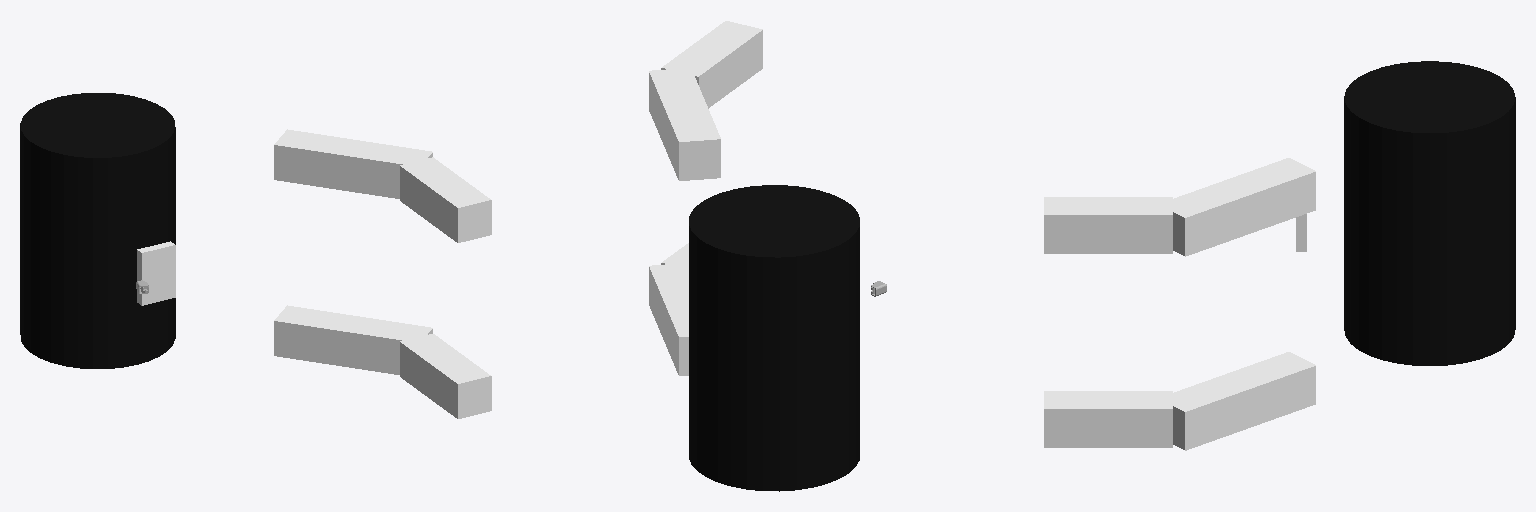
robot.urdf — ex1:
<?xml version="1.0" ?>
<!-- =================================================================================== -->
<!-- |    This document was autogenerated by xacro from two_finger_mimic.urdf.xacro    | -->
<!-- |    EDITING THIS FILE BY HAND IS NOT RECOMMENDED                                 | -->
<!-- =================================================================================== -->
<robot name="ex1" xmlns:xacro="http://ros.org/wiki/xacro">
  <link name="world"/>
  <joint name="virtualFixed" type="fixed">
    <parent link="world"/>
    <child link="motor"/>
  </joint>
  <link name="motor">
    <inertial>
      <mass value="1"/>
      <inertia ixx="100" ixy="0" ixz="0" iyy="100" iyz="0" izz="100"/>
      <origin/>
    </inertial>
    <visual>
      <geometry>
        <cylinder length="0.6" radius=".2"/>
      </geometry>
      <material name="black">
        <color rgba=".1 .1 .1 .1"/>
      </material>
    </visual>
    <collision>
      <origin xyz="0 0 0"/>
      <geometry>
        <cylinder length="0.6" radius=".2"/>
      </geometry>
      <contact_coefficients kd="1.0" kp="1000.0" mu="0"/>
    </collision>
  </link>
  <link name="base">
    <inertial>
      <mass value="1"/>
      <inertia ixx="100" ixy="0" ixz="0" iyy="100" iyz="0" izz="100"/>
      <origin/>
    </inertial>
    <visual>
      <geometry>
        <box size="0.1 .025 .15"/>
      </geometry>
      <origin rpy="0 0 0" xyz="0 -0.15 0"/>
      <material name="white">
        <color rgba="1 1 1 1"/>
      </material>
    </visual>
    <collision>
      <origin rpy="0 0 0" xyz="0 -0.15 0"/>
      <geometry>
        <box size="0.4 .1 .6"/>
      </geometry>
      <contact_coefficients kd="1.0" kp="1000.0" mu="0"/>
    </collision>
  </link>
  <joint name="motor_to_base" type="fixed">
    <parent link="motor"/>
    <child link="base"/>
    <origin xyz="0 -0.15 0"/>
  </joint>
<!--  <link name="left_finger">
    <inertial>
      <mass value="1"/>
      <inertia ixx="100" ixy="0" ixz="0" iyy="100" iyz="0" izz="100"/>
      <origin/>
    </inertial>
    <visual>
      <geometry>
        <box size="0.1 .4 .1"/>
      </geometry>
      <origin rpy="0 0 -0.7" xyz="-0.35 -0.3 0"/>
      <material name="white">
        <color rgba="1 1 1 1"/>
      </material>
    </visual>
    <collision>
      <origin rpy="0 0 -0.7" xyz="-0.4 -0.3 0"/>
      <geometry>
        <box size="0.1 .4 .1"/>
      </geometry>
      <contact_coefficients kd="1.0" kp="1000.0" mu="0"/>
    </collision>
  </link>
  <joint name="base_to_left_finger" type="revolute">
    <axis xyz="0 0 1"/>
    <limit effort="1000.0" lower="0.0" upper="0.7" velocity="0.5"/>
    <parent link="base"/>
    <child link="left_finger"/>
    <origin xyz="-0.1 0 0"/>
  </joint> -->
  
  <!-- ///////////////////////////////////////   Long finger 1   ////////////////////////////////////////// -->
  <!-- ///////////////////////////////////////   Base_Link of the long_finger   ////////////////////////////////////////// -->
    <link name="motor_finger1_virtual_link">
   <inertial> <!-- We need inertial otherwise gazebo does not load the motor joints. I put very low inertia-->
      <origin rpy="0 0 0" xyz="0 0 0"/>
      <mass value="0.01"/>
      <inertia ixx="0.0001" ixy="0.0" ixz="0.0" iyy="0.0001" iyz="0.0" izz="0.0001"/>
    </inertial>
  </link>
    <joint name="motor_finger1" type="revolute">
    <origin rpy="0 0 0" xyz="0 0 0"/>
    <parent link="base"/>
    <child link="motor_finger1_virtual_link"/>
    <limit effort="10" lower="0" upper="2.5" velocity="1"/>
    <dynamics damping="0.003" friction="0.003"/>
  </joint>
  
  
  <link name="LFB1">
    <inertial>
      <origin rpy="0 0 0" xyz="0.000045491656 -0.0037522651 0.0064111226"/>
      <mass value="0.0039598861"/>
      <inertia ixx="4.3061452E-07" ixy="0" ixz="-1.2027573E-07" iyy="3.9605806E-07" iyz="0" izz="3.9738552E-07"/>
    </inertial>
    <visual>
      <origin rpy="0 0 0" xyz="0 0 0"/>
      <geometry>
        <mesh filename="package://iit_heri_ii_hand_description/description/meshes/heri_II/LFB1.STL" />
      </geometry>
      <material name="">
        <color rgba="0.75294 0.75294 0.75294 1"/>
      </material>
    </visual>
    <collision>
      <origin rpy="0 0 0" xyz="0 0 0"/>
      <geometry>
        <mesh filename="package://iit_heri_ii_hand_description/description/meshes/heri_II/LFB1.STL"/>
      </geometry>
    </collision>
  </link>
  <!-- ///////////////////////////////////////   Joint of BASE and the base_link of the short finger   ////////////////////////////////////////// -->
  <joint name="BASE__LFB1" type="revolute">
    <origin rpy="1.57 0 -1.57" xyz="-0.05 -0.15 0"/>
    <parent link="base"/>
    <child link="LFB1"/>
    <axis xyz="0 0 1"/>
    <limit effort="10" lower="-0.1" upper="0.1" velocity="1"/>
    <dynamics damping="0.003" friction="0.003"/>
  </joint>
  <!-- ///////////////////////////////////////   First phalanx of the Long_Finger   ////////////////////////////////////////// -->
  <link name="LFP1_1">
    <inertial>
      <origin rpy="0 0 0" xyz="0.013537693 -0.00011389541 0.00014514898"/>
      <mass value="0.021630428"/>
      <inertia ixx="1.7547572E-06" ixy="1.2425281E-07" ixz="-5.2776703E-08" iyy="7.3422819E-06" iyz="-1.1395559E-09" izz="7.1587820E-06"/>
    </inertial>
    <visual>
      <origin rpy="0 0 0" xyz="0 0 0"/>
      <geometry>
        <mesh filename="package://iit_heri_ii_hand_description/description/meshes/heri_II/LFP1_1.STL"/>
      </geometry>
      <material name="">
        <color rgba="0.75294 0.75294 0.75294 1"/>
      </material>
    </visual>
    <collision>
      <origin rpy="0 0 0" xyz="0 0 0"/>
      <geometry>
        <mesh filename="package://iit_heri_ii_hand_description/description/meshes/heri_II/LFP1_1.STL"/>
      </geometry>
    </collision>
  </link>
  <!-- ///////////////////////////////////////   Joint of base_link and the first phalanx of the short finger   ////////////////////////////////////////// -->
  <joint name="LFB1__LFP1_1" type="revolute">
    <origin rpy="1.5708 -0.29671 0" xyz="0.011 0 0.007"/>
    <parent link="LFB1"/>
    <child link="LFP1_1"/>
    <axis xyz="0 0 -1"/>
    <limit effort="10" lower="-0.1" upper="0.56" velocity="1"/>
    <dynamics damping="0.003" friction="0.003"/>
    <!-- joint of the first phalange -->
    <mimic joint="motor_finger1" nlFunPos="0.08519*2.71828^(-((x-0.9172)/0.1817)^2) + [number redacted]*2.71828^(-((x-32.2)/5.513)^2) + -714900*2.71828^(-((x--17.93)/4.61)^2) + 0.2555*2.71828^(-((x-0.7317)/1.105)^2)"/>
  </joint>
  <gazebo>
    <plugin filename="libroboticsgroup_gazebo_mimic_joint_plugin.so" name="LFB1__LFP1_1_jointmimic_joint_plugin">
      <joint>motor_finger1</joint>
      <mimicJoint>LFB1__LFP1_1</mimicJoint>
      <multiplier>0</multiplier>
      <offset>0</offset>
      <sensitiveness>0.0</sensitiveness>
      <!-- if absolute difference between setpoint and process value is below this threshold, do nothing; 0.0 = disable [rad] -->
      <maxEffort>10.0</maxEffort>
      <nlFunPos>0.08519*2.71828^(-((x-0.9172)/0.1817)^2) + [number redacted]*2.71828^(-((x-32.2)/5.513)^2) + -714900*2.71828^(-((x--17.93)/4.61)^2) + 0.2555*2.71828^(-((x-0.7317)/1.105)^2)</nlFunPos>
    </plugin>
  </gazebo>
  <!-- ///////////////////////////////////////   Second phalanx of the Long_Finger   ////////////////////////////////////////// -->
  <link name="LFP1_2">
    <inertial>
      <origin rpy="0 0 0" xyz="0.012816858 0.00029615072 0.00012767631"/>
      <mass value="0.022869549"/>
      <inertia ixx="1.9943688E-06" ixy="1.3380251E-07" ixz="-5.3468405E-08" iyy="7.4922799E-06" iyz="-9.2812315E-10" izz="7.3102836E-06"/>
    </inertial>
    <visual>
      <origin rpy="0 0 0" xyz="0 0 0"/>
      <geometry>
        <mesh filename="package://iit_heri_ii_hand_description/description/meshes/heri_II/LFP1_2.STL"/>
      </geometry>
      <material name="">
        <color rgba="0.75294 0.75294 0.75294 1"/>
      </material>
    </visual>
    <collision>
      <origin rpy="0 0 0" xyz="0 0 0"/>
      <geometry>
        <mesh filename="package://iit_heri_ii_hand_description/description/meshes/heri_II/LFP1_2.STL"/>
      </geometry>
    </collision>
  </link>
  <!-- ///////////////////////////////////////   Joint of base_link and the first phalanx of the long finger   ////////////////////////////////////////// -->
  <joint name="LFP1_1__LFP1_2" type="revolute">
    <origin rpy="0 0 0" xyz="0.035 0 0"/>
    <parent link="LFP1_1"/>
    <child link="LFP1_2"/>
    <axis xyz="0 0 -1"/>
    <limit effort="10" lower="-0.1" upper="1.22" velocity="1"/>
    <dynamics damping="0.06" friction="0.05"/>
    <!-- joint of the 2 phalange -->
    <mimic joint="motor_finger1" nlFunPos="-0.1028*x^4 + 0.4311*x^3 + -0.6019*x^2 +0.9364*x + -0.01132"/>
  </joint>

  <!-- ///////////////////////////////////////   Tip phalanx of the long finger   ////////////////////////////////////////// -->
  <link name="LFP1_3">
    <inertial>
      <origin rpy="0 0 0" xyz="0.012398348 -0.00034958691 0.000050212619"/>
      <mass value="0.02226615"/>
      <inertia ixx="1.7400409E-06" ixy="4.4309075E-07" ixz="-1.3771833E-08" iyy="6.8917616E-06" iyz="6.4562527E-09" izz="6.4653229E-06"/>
    </inertial>
    <visual>
      <origin rpy="0 0 0" xyz="0 0 0"/>
      <geometry>
        <mesh filename="package://iit_heri_ii_hand_description/description/meshes/heri_II/LFP1_3.STL"/>
      </geometry>
      <material name="">
        <color rgba="0.75294 0.75294 0.75294 1"/>
      </material>
    </visual>
    <collision>
      <origin rpy="0 0 0" xyz="0 0 0"/>
      <geometry>
        <mesh filename="package://iit_heri_ii_hand_description/description/meshes/heri_II/LFP1_3.STL"/>
      </geometry>
    </collision>
  </link>
  <!-- ///////////////////////////////////////   Joint of second and tip phalanxs of the long finger   ////////////////////////////////////////// -->
  <joint name="LFP1_2__LFP1_3" type="revolute">
    <origin rpy="0 0 0" xyz="0.035 0 0"/>
    <parent link="LFP1_2"/>
    <child link="LFP1_3"/>
    <axis xyz="0 0 -1"/>
    <limit effort="10" lower="-0.1" upper="1.22" velocity="1"/>
    <dynamics damping="0.003" friction="0.003"/>
    <!-- joint of the 3 phalange -->
    <mimic joint="motor_finger1" nlFunPos="-0.06965*x^5 + 0.4258*x^4 + -0.7659*x^3 +0.3528*x^2 + 0.4078*x + 0.007414"/>
  </joint>
  
  

  <link name="right_finger1">
  <inertial>
    <mass value="1"/>
    <inertia ixx="100" ixy="0" ixz="0" iyy="100" iyz="0" izz="100" />
    <origin/>
  </inertial>
    <visual>
      <geometry>
        <box size="0.1 .4 .1"/>
      </geometry>
      <origin rpy="0 0 0.7" xyz="0.4 -0.3 0.25"/>
      <material name="white">
        <color rgba="1 1 1 1"/>
      </material>
    </visual>
  <collision>
      <origin rpy="0 0 0.7" xyz="0.4 -0.3 0.25"/>
    <geometry>
        <box size="0.1 .4 .1"/>
    </geometry>
    <contact_coefficients mu="0" kp="1000.0" kd="1.0"/>
  </collision>
  </link>

  <joint name="base_to_right_finger1" type="revolute">
    <axis xyz="0 0 1"/>
    <limit effort="1000.0" lower="-0.7" upper="0.0" velocity="0.5"/>
    <parent link="base"/>
    <child link="right_finger1"/>
    <origin xyz=".1 0 0"/>
  </joint>

  <link name="right_finger2">
  <inertial>
    <mass value="1"/>
    <inertia ixx="100" ixy="0" ixz="0" iyy="100" iyz="0" izz="100" />
    <origin/>
  </inertial>
    <visual>
      <geometry>
        <box size="0.1 .4 .1"/>
      </geometry>
      <origin rpy="0 0 0.7" xyz="0.4 -0.3 -0.25"/>
      <material name="white">
        <color rgba="1 1 1 1"/>
      </material>
    </visual>
  <collision>
      <origin rpy="0 0 0.7" xyz="0.4 -0.3 -0.25"/>
    <geometry>
        <box size="0.1 .4 .1"/>
    </geometry>
    <contact_coefficients mu="0" kp="1000.0" kd="1.0"/>
  </collision>
  </link>

  <joint name="base_to_right_finger2" type="revolute">
    <axis xyz="0 0 1"/>
    <limit effort="1000.0" lower="-0.7" upper="0.0" velocity="0.5"/>
    <parent link="base"/>
    <child link="right_finger2"/>
    <origin xyz=".1 0 0"/>
  </joint>
  
<!--  <link name="left_fingertip">
    <inertial>
      <mass value="1"/>
      <inertia ixx="100" ixy="0" ixz="0" iyy="100" iyz="0" izz="100"/>
      <origin/>
    </inertial>
    <visual>
      <geometry>
        <box size="0.1 .3 .1"/>
      </geometry>
      <origin rpy="0 0 0" xyz="0.1 -0.1 0"/>
      <material name="white">
        <color rgba="1 1 1 1"/>
      </material>
    </visual>
    <collision>
      <origin rpy="0 0 0" xyz="0.1 -0.1 0"/>
      <geometry>
        <box size="0.1 .3 .1"/>
      </geometry>
      <contact_coefficients kd="1.0" kp="1000.0" mu="0"/>
    </collision>
  </link>
  <joint name="left_finger_to_left_fingertip" type="revolute">
    <axis xyz="0 0 1"/>
    <limit effort="1.0" lower="0" upper="0.9" velocity="0.5"/>
    <parent link="left_finger"/>
    <child link="left_fingertip"/>
    <origin xyz="-0.6 -0.5 0"/>
    <mimic joint="base_to_left_finger" multiplier="0.85" offset="0"/>
  </joint> -->
  
  
 <link name="right_fingertip1">
  <inertial>
    <mass value="1"/>
    <inertia ixx="100" ixy="0" ixz="0" iyy="100" iyz="0" izz="100" />
    <origin/>
  </inertial>
    <visual>
      <geometry>
        <box size="0.1 .3 .1"/>
      </geometry>
      <origin rpy="0 0 0" xyz="-0.1 -0.1 0"/>
      <material name="white">
        <color rgba="1 1 1 1"/>
      </material>
    </visual>
  <collision>
      <origin rpy="0 0 0" xyz="-0.1 -0.1 0"/>
    <geometry>
        <box size="0.1 .3 .1"/>
    </geometry>
    <contact_coefficients mu="0" kp="1000.0" kd="1.0"/>
  </collision>
  </link>

  <joint name="right_finger1_to_right_fingertip1" type="revolute">
    <axis xyz="0 0 1"/>
    <limit effort="1.0" lower="-0.9" upper="0.0" velocity="0.5"/>
    <parent link="right_finger1"/>
    <child link="right_fingertip1"/>
    <origin xyz="0.6 -0.5 0.25"/>
    <mimic joint="base_to_right_finger1" multiplier="0.85" offset="0"/>
  </joint>

  <link name="right_fingertip2">
  <inertial>
    <mass value="1"/>
    <inertia ixx="100" ixy="0" ixz="0" iyy="100" iyz="0" izz="100" />
    <origin/>
  </inertial>
    <visual>
      <geometry>
        <box size="0.1 .3 .1"/>
      </geometry>
      <origin rpy="0 0 0" xyz="-0.1 -0.1 0"/>
      <material name="white">
        <color rgba="1 1 1 1"/>
      </material>
    </visual>
  <collision>
     <origin rpy="0 0 0" xyz="-0.1 -0.1 0"/>
    <geometry>
        <box size="0.1 .3 .1"/>
    </geometry>
    <contact_coefficients mu="0" kp="1000.0" kd="1.0"/>
  </collision>
  </link>

  <joint name="right_finger2_to_right_fingertip2" type="revolute">
    <axis xyz="0 0 1"/>
    <limit effort="1.0" lower="-0.9" upper="0.0" velocity="0.5"/>
    <parent link="right_finger2"/>
    <child link="right_fingertip2"/>
    <origin xyz="0.6 -0.5 -0.25"/>
    <mimic joint="base_to_right_finger2" multiplier="0.85" offset="0"/>
  </joint>
  
</robot>

--- Render facts (derived) ---
Views: 3 orthographic renders of the robot side by side, from view 1: azimuth 30°, elevation 25°; view 2: azimuth 150°, elevation 25°; view 3: azimuth 270°, elevation 25°.
Model ex1 with 12 links and 11 joints (9 revolute, 2 fixed), rooted at world, posed all joints at 0.
Links seen in each view (by area): view 1: motor, right_finger2, right_finger1, right_fingertip1, right_fingertip2, base; view 2: motor, right_finger1, right_fingertip1, right_finger2; view 3: motor, right_finger1, right_finger2, right_fingertip2, right_fingertip1.
Link boxes in pixels (x1,y1,x2,y2): motor: (20, 93, 175, 368); right_finger2: (274, 305, 432, 374); right_finger1: (274, 129, 432, 198); right_fingertip1: (400, 157, 491, 242); right_fingertip2: (400, 334, 491, 418); base: (137, 241, 175, 305); motor: (689, 185, 859, 491); right_finger1: (649, 68, 720, 180); right_fingertip1: (661, 21, 762, 108); right_finger2: (649, 263, 688, 375); motor: (1344, 61, 1515, 365); right_finger1: (1163, 158, 1315, 256); right_finger2: (1170, 352, 1315, 450); right_fingertip2: (1044, 391, 1172, 447); right_fingertip1: (1044, 197, 1172, 253).
Size in the robot's own frame: 0.8671 by 1.1 by 0.6 metres.
1 mesh visuals loaded from 4 distinct referenced files (1 binary STL); not drawn: 3 (reference not matched to a file when rendering).
